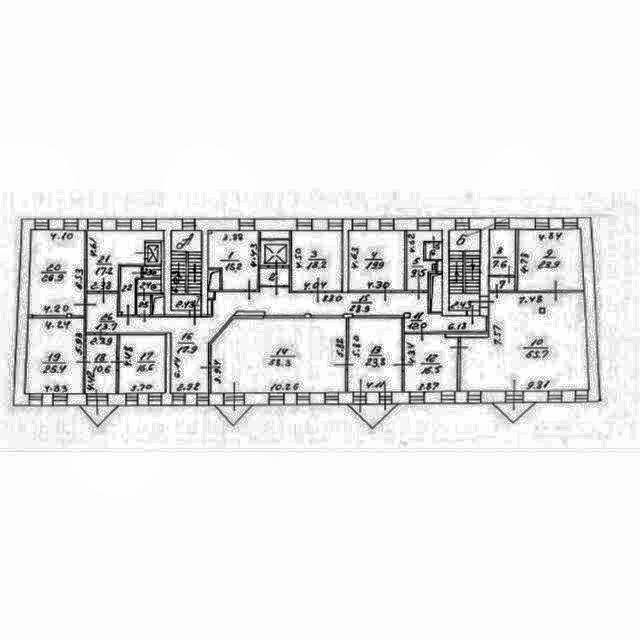room: (86, 284, 487, 394), (460, 293, 589, 390), (211, 317, 347, 393), (29, 230, 85, 315), (87, 231, 163, 291), (25, 317, 83, 393), (517, 229, 583, 290), (349, 318, 402, 391), (349, 231, 405, 290), (404, 334, 457, 391), (292, 231, 341, 291), (209, 231, 258, 289), (120, 335, 165, 392), (172, 231, 202, 310), (449, 230, 478, 309), (407, 231, 442, 290), (86, 335, 116, 393), (81, 389, 117, 425), (217, 389, 252, 425), (489, 230, 514, 275), (349, 405, 396, 427), (120, 266, 141, 315), (494, 403, 534, 422), (260, 269, 288, 286), (265, 244, 286, 263), (490, 277, 513, 290), (138, 279, 160, 292), (137, 296, 150, 315), (426, 243, 441, 259), (144, 267, 160, 277), (149, 245, 158, 261)
